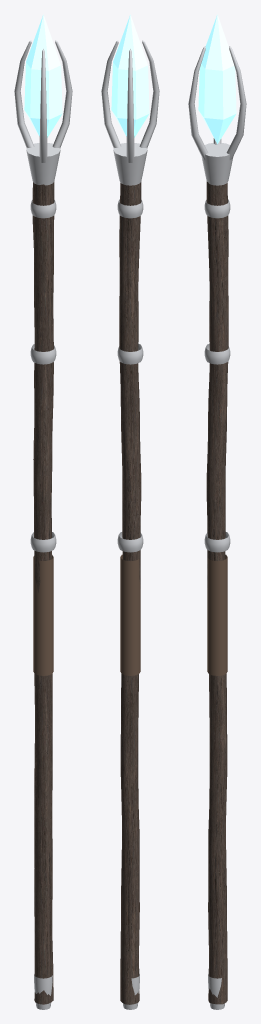
File: crystal_staff.glb
The picture shows the model from 3 angles, left to right: view 1: azimuth 30°, elevation 25°; view 2: azimuth 150°, elevation 25°; view 3: azimuth 330°, elevation 25°; orthographic projection.
Visible parts, largest first — view 1: crystal_staff; view 2: crystal_staff; view 3: crystal_staff.
Boxes of the visible parts, box(x1,y1,x2,y2) form: crystal_staff: box(14, 14, 72, 1009); crystal_staff: box(101, 14, 159, 1009); crystal_staff: box(188, 14, 246, 1009).
Size of the model in its own units: 0.0892 by 1.9 by 0.1011.
Materials: 4 (1 with a texture image).
